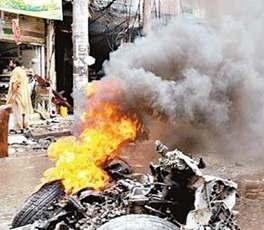fire: (38, 79, 141, 194)
